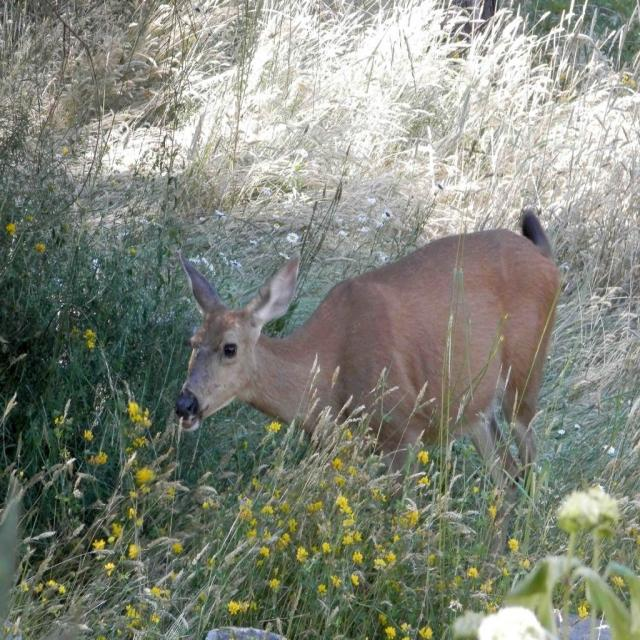Deer: (173, 209, 563, 583)
